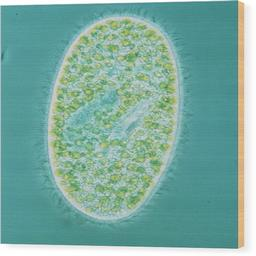Paramecium: (47, 15, 183, 222)
